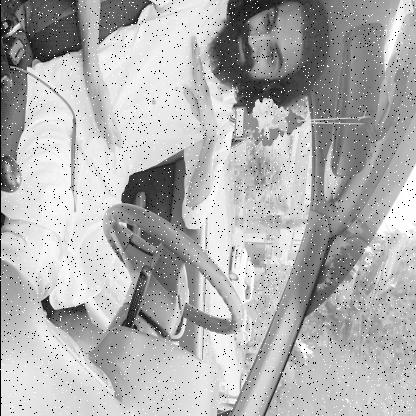no_seatbelt: (67, 5, 328, 164)
